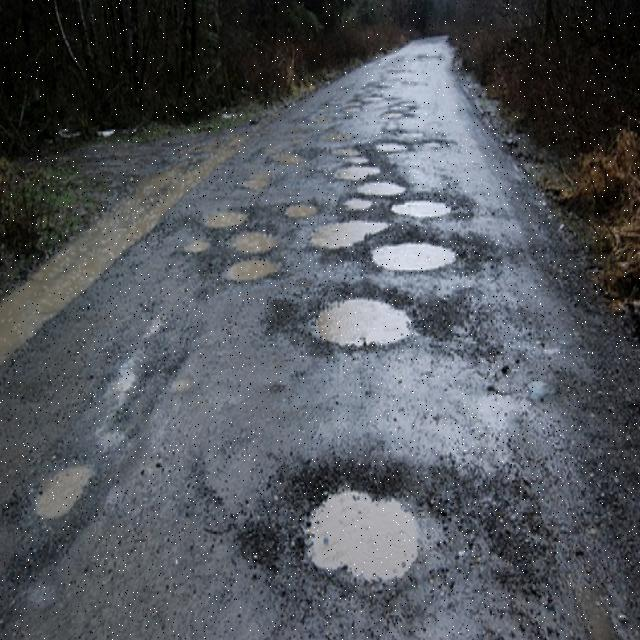pothole: (304, 492, 422, 582), (313, 294, 413, 349), (372, 240, 457, 270), (307, 217, 385, 249), (391, 194, 452, 218), (223, 258, 283, 280), (230, 231, 278, 250), (357, 181, 407, 199), (202, 208, 244, 228), (282, 198, 318, 218)
